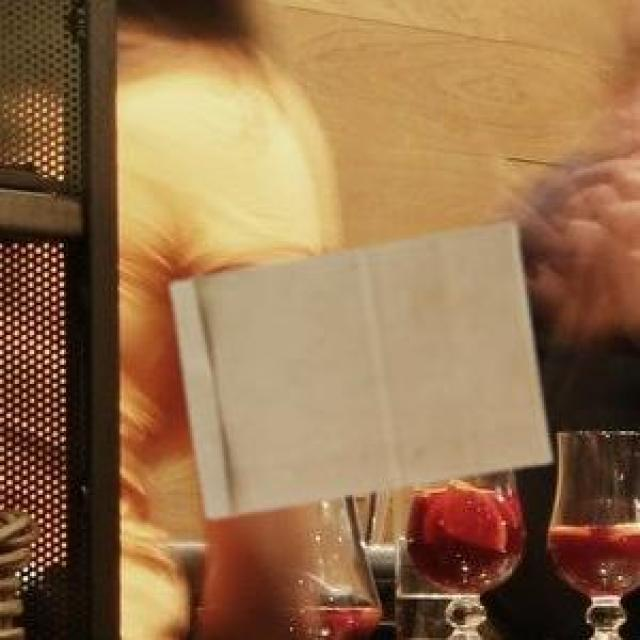paper: (166, 220, 546, 514)
